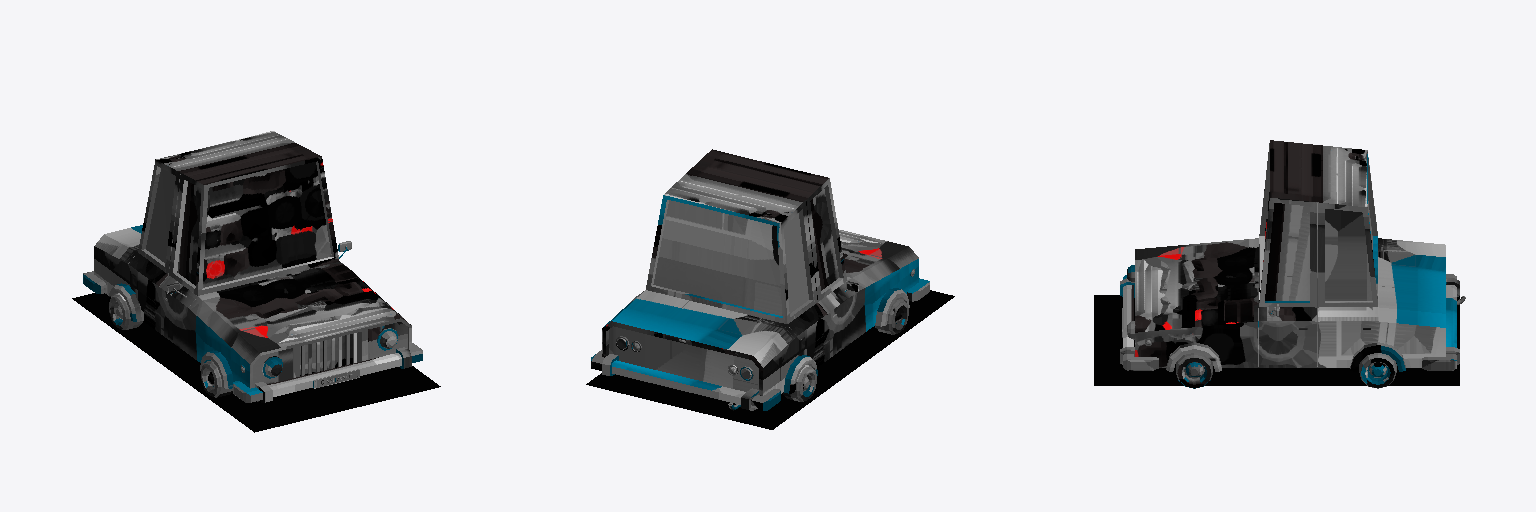
3 views of the same model, side by side, from view 1: azimuth 30°, elevation 25°; view 2: azimuth 150°, elevation 25°; view 3: azimuth 270°, elevation 25° (orthographic).
Parts seen in each view (by area): view 1: car.003_Mesh.002; view 2: car.003_Mesh.002; view 3: car.003_Mesh.002.
Boxes of the visible parts, box(x1,y1,x2,y2) form: car.003_Mesh.002: box(72, 131, 440, 432); car.003_Mesh.002: box(586, 149, 954, 429); car.003_Mesh.002: box(1094, 140, 1465, 388).
Size of the model in its own units: 1.43 by 1.27 by 2.44.
2 materials, 1 textured.